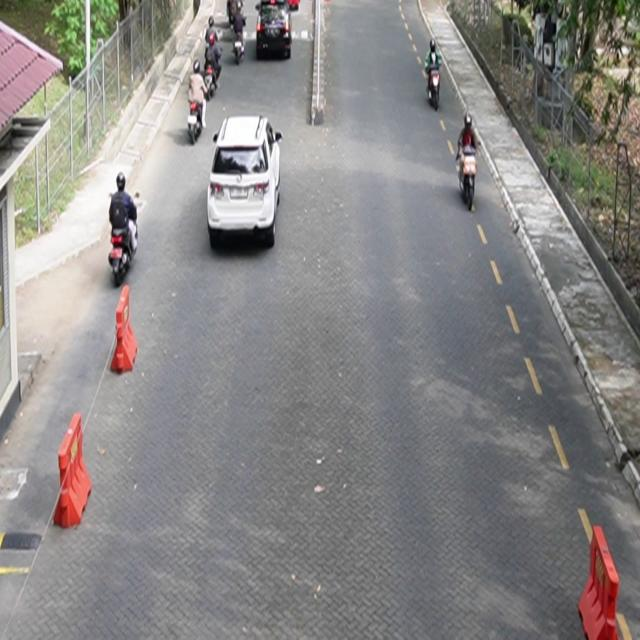car: (207, 115, 284, 249), (256, 1, 293, 60)
